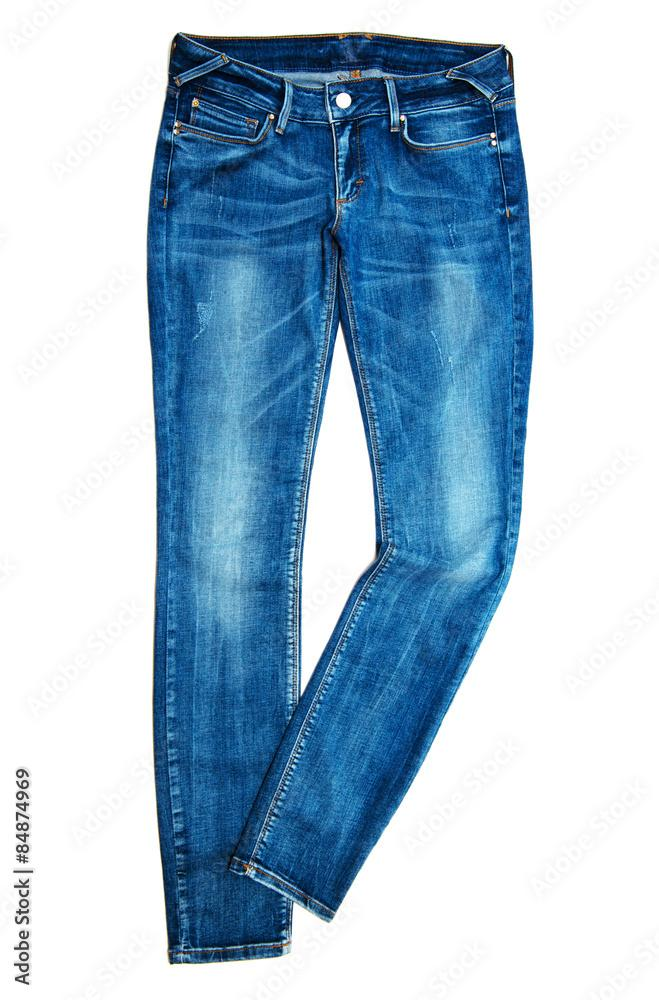jeans: (135, 20, 543, 974)
